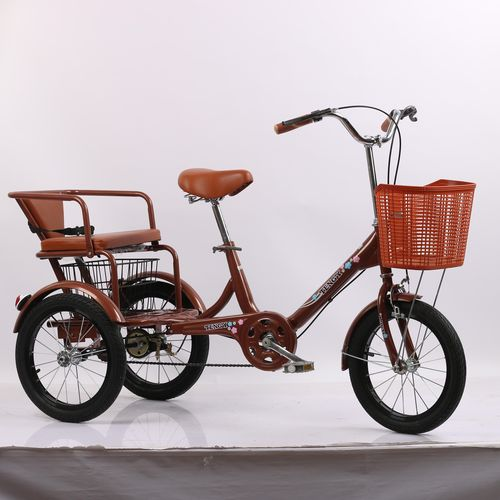empty: (23, 68, 497, 475)
